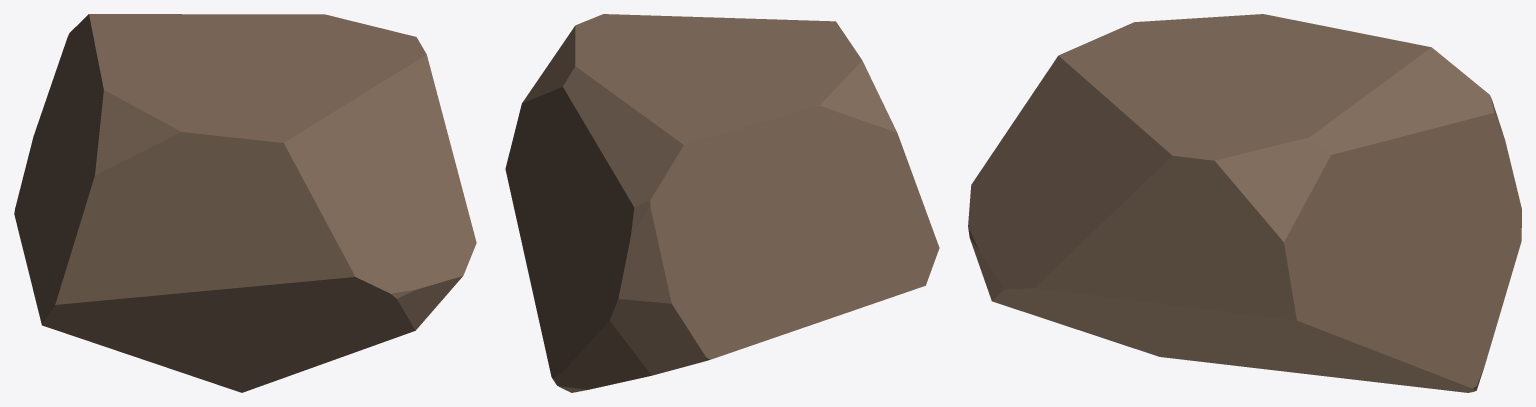
Rendered from ForestRock3.fbx.
3 views of the same model, side by side, from view 1: azimuth 30°, elevation 25°; view 2: azimuth 150°, elevation 25°; view 3: azimuth 270°, elevation 25° (orthographic). The views are drawn at different scales.
Parts seen in each view (by area): view 1: ForestRock3; view 2: ForestRock3; view 3: ForestRock3.
Part boxes in pixels (box(x1,y1,x2,y2)): ForestRock3: box(14, 14, 476, 392); ForestRock3: box(505, 14, 939, 392); ForestRock3: box(968, 14, 1521, 392).
Bounding box in the file's own units: 249 × 165 × 277.
